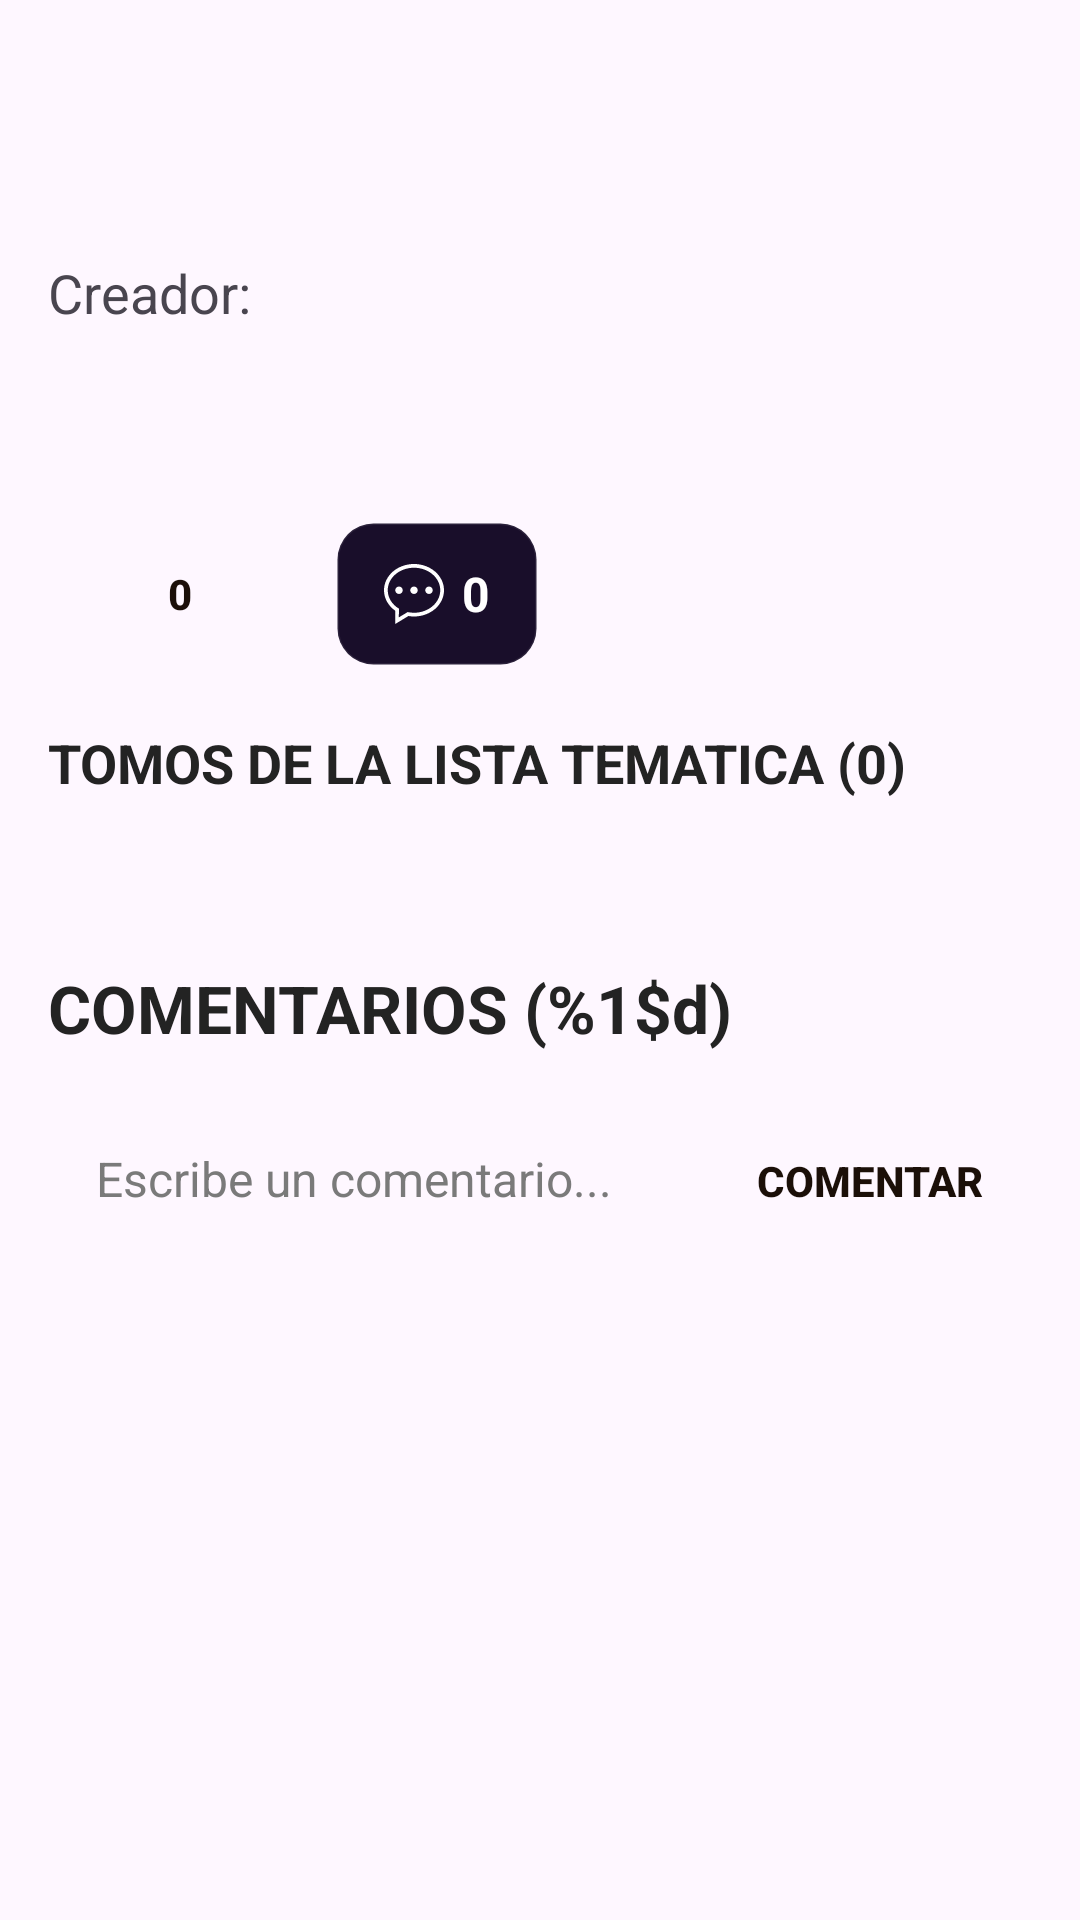

Named icons in this screenshot (1080px×1920px) and their bounding boxes, box(x1, y1, x2, y2):
comment: box(384, 564, 444, 624)
